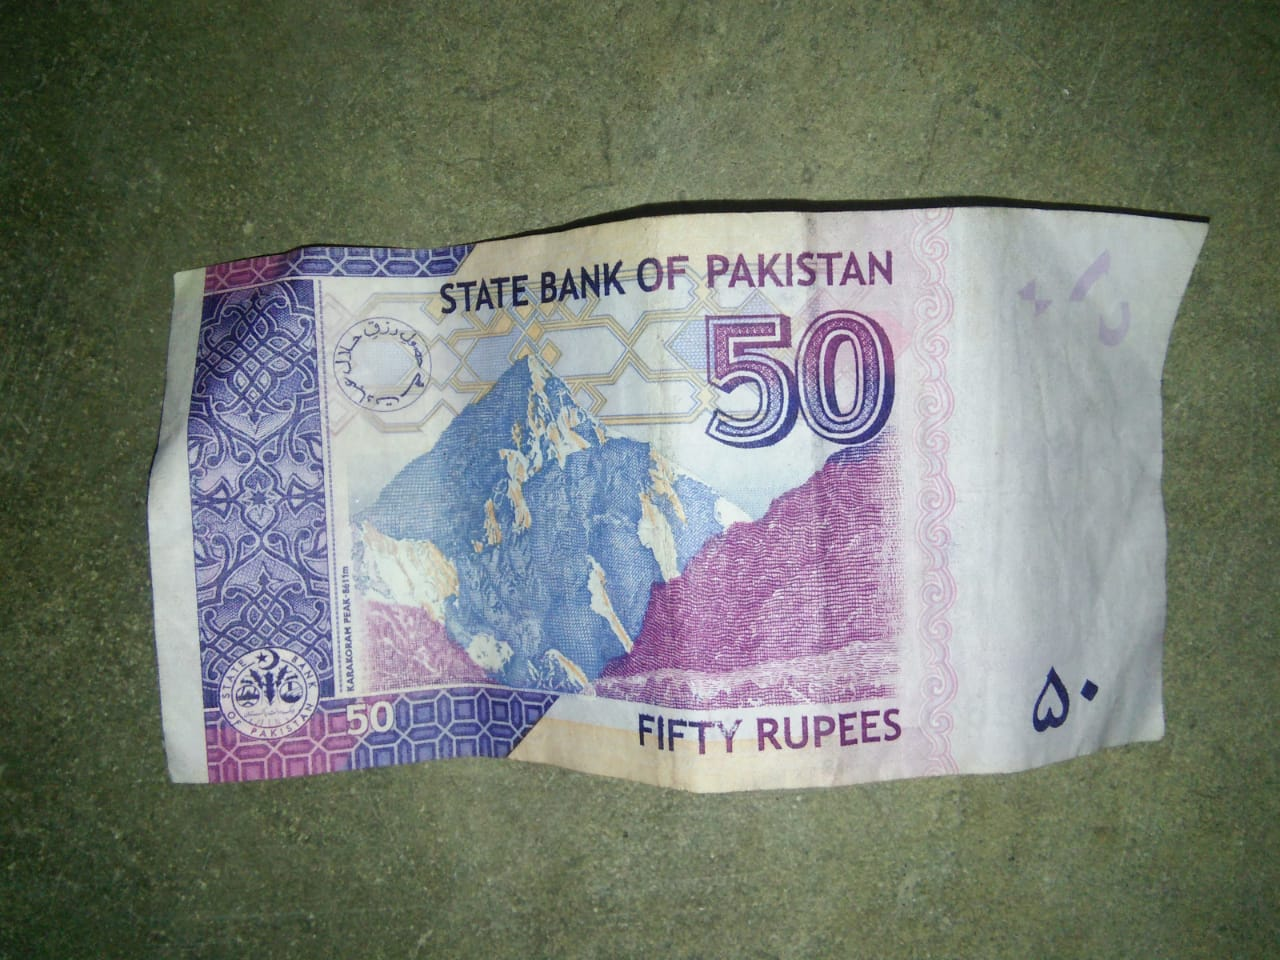50 rupee: (140, 231, 1208, 805)
